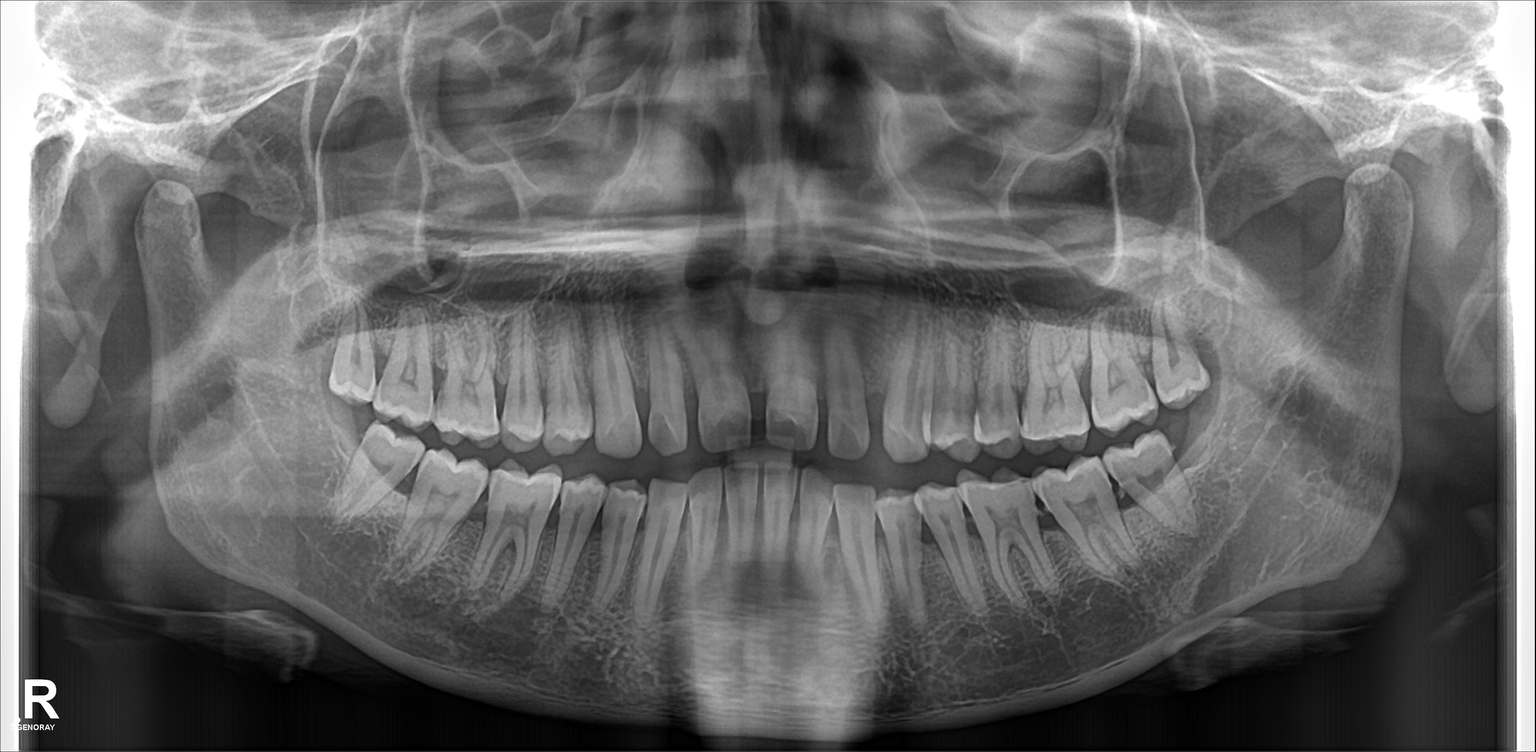Dental Caries: (767, 415, 815, 445)
